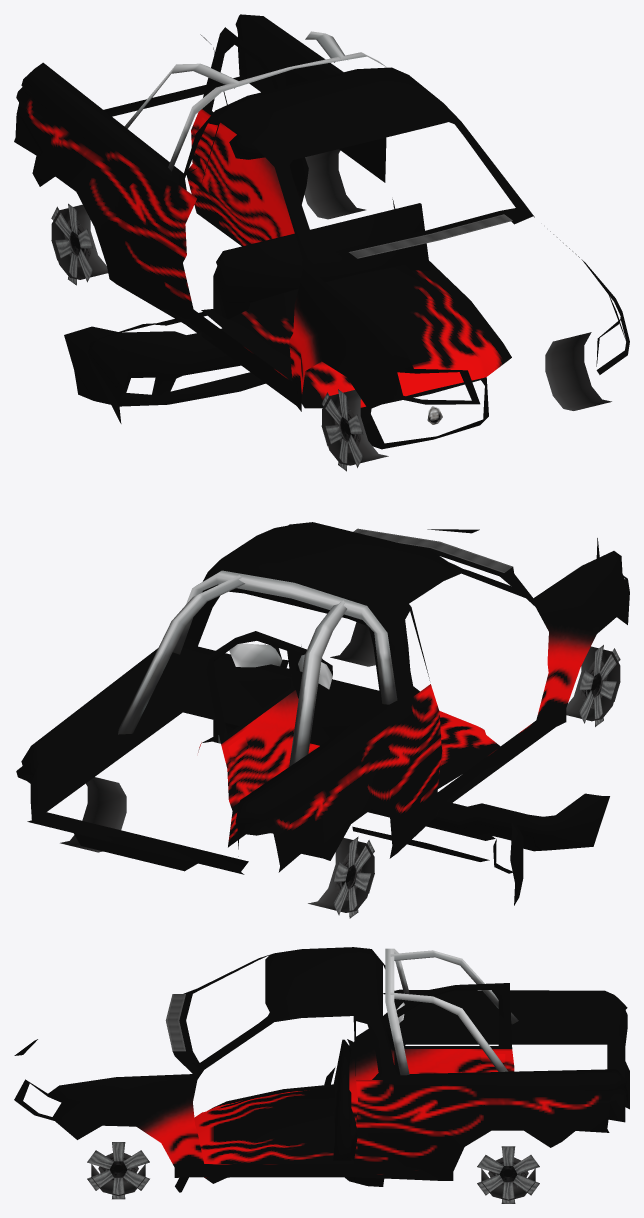
The model's file is car-CUPE_Car13.glb.
3 renders of one model, top to bottom at view 1: azimuth 30°, elevation 25°; view 2: azimuth 150°, elevation 25°; view 3: azimuth 270°, elevation 25°, orthographic. The views are drawn at different scales.
Parts seen in each view (by area): view 1: CUPE_Car13; view 2: CUPE_Car13; view 3: CUPE_Car13.
Part boxes in pixels (<box>): CUPE_Car13: <box>14,14,629,471</box>; CUPE_Car13: <box>16,522,629,918</box>; CUPE_Car13: <box>14,947,629,1203</box>.
Bounding box in the file's own units: 2.76 × 1.83 × 4.98.
19 materials, 19 textured.
